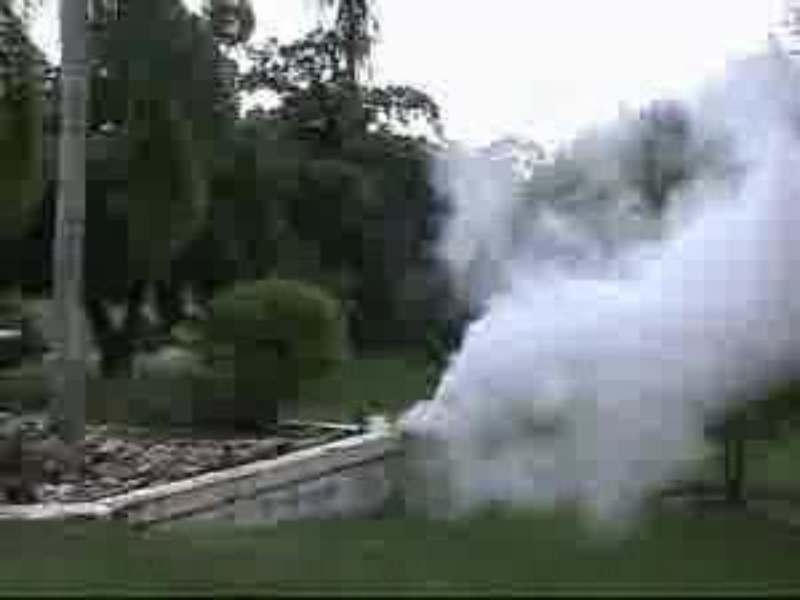smoke: (450, 167, 715, 478)
